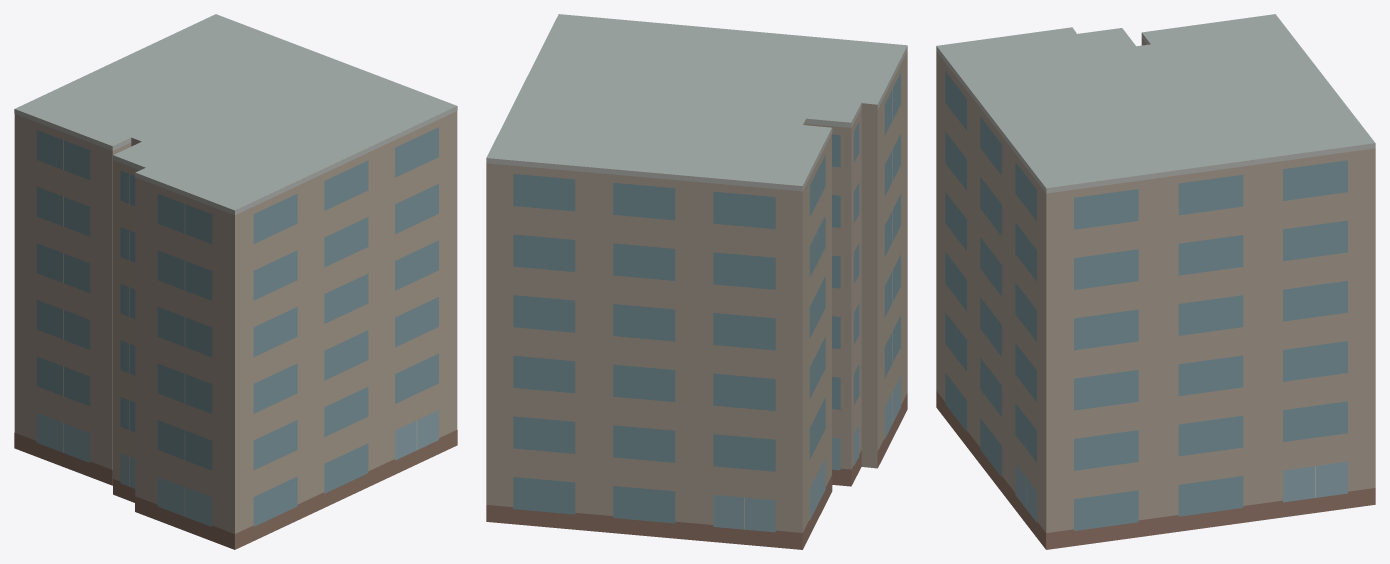
Rendered from survey-upis-32968104.glb.
3 views of the same model, side by side, from view 1: azimuth 30°, elevation 25°; view 2: azimuth 150°, elevation 25°; view 3: azimuth 270°, elevation 25° (orthographic). The views are drawn at different scales.
Parts seen in each view (by area): view 1: survey-upis-32968104.tmp; view 2: survey-upis-32968104.tmp; view 3: survey-upis-32968104.tmp.
Part boxes in pixels (left/top/right/bottom): survey-upis-32968104.tmp: left=14, top=14, right=457, bottom=549; survey-upis-32968104.tmp: left=486, top=14, right=907, bottom=549; survey-upis-32968104.tmp: left=936, top=14, right=1375, bottom=549.
Bounding box in the file's own units: 17.53 × 16.95 × 18.67.
